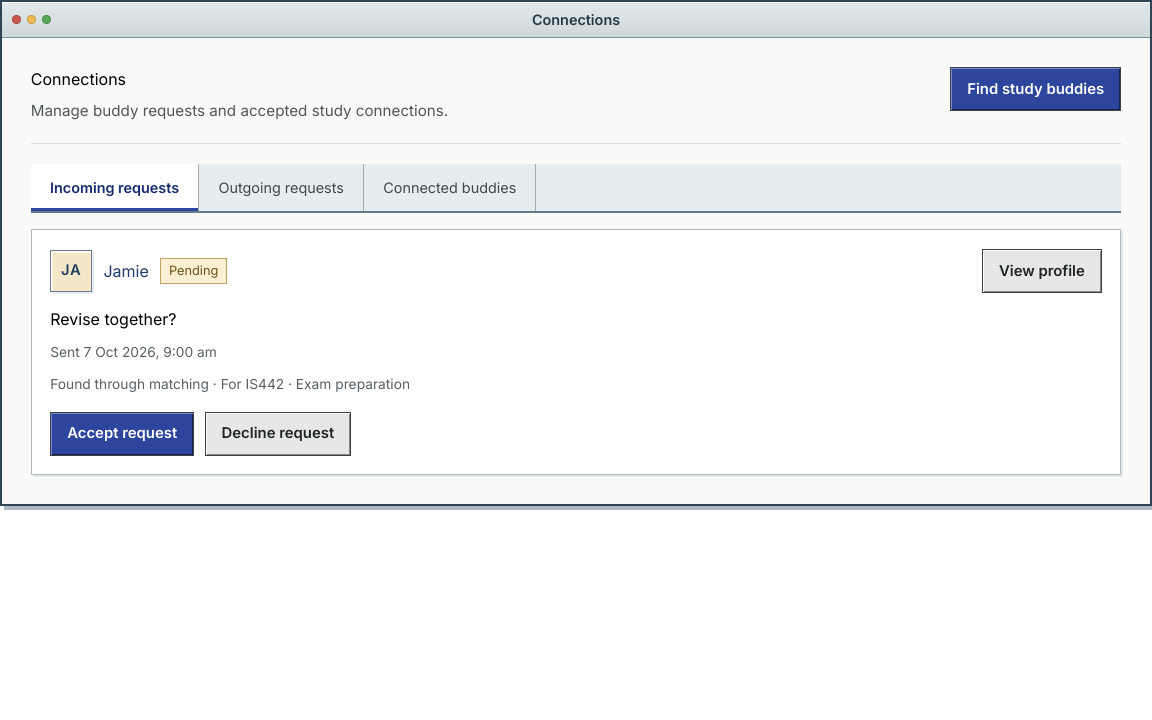
Scenario: buddy requests and connections › accepts the pending request and moves it to past requests
Check: the text "Found through matching · For IS442 · Exam preparation" is shown, box [50,376,410,392]
Click the button "Accept request": click(122, 434) [50,412,194,456]
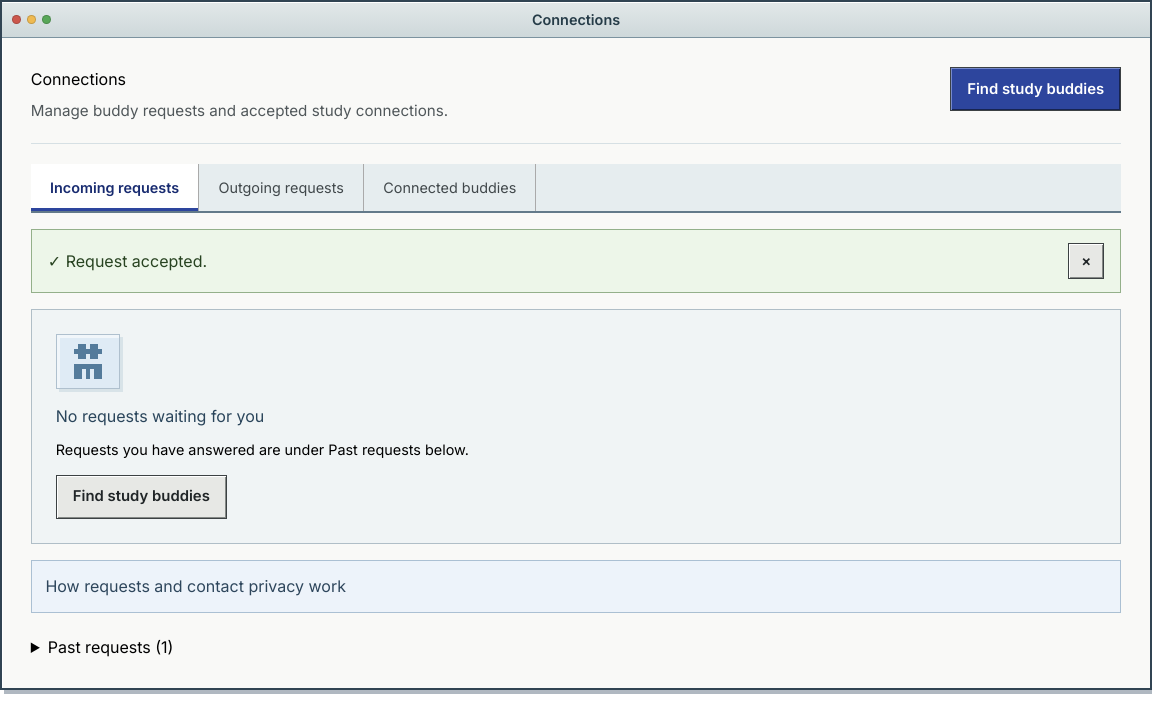
Check: the heading "No requests waiting for you" is shown, box [56,404,264,428]
Check: the button "Accept request" is gone
